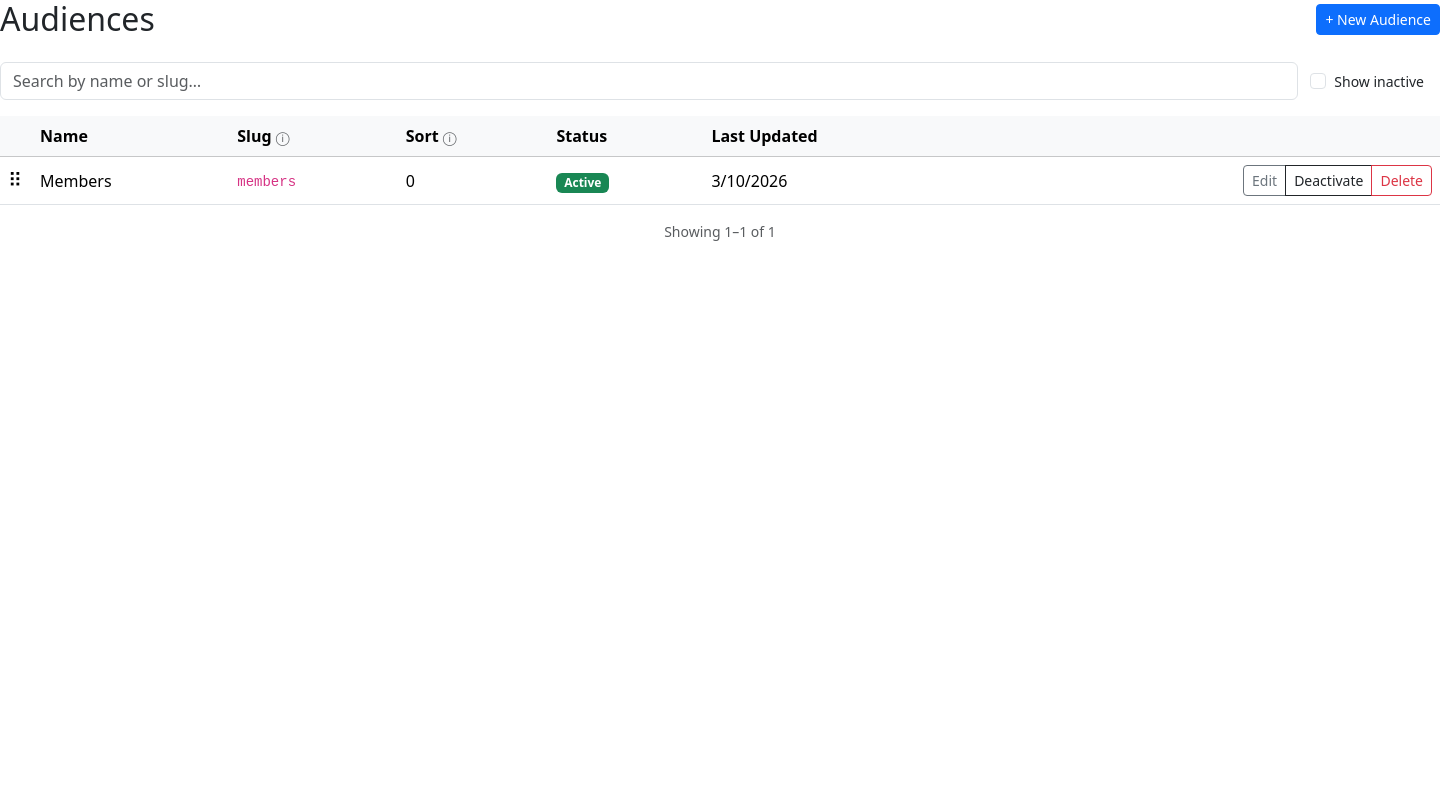
AudiencesListPage › Actions › opens confirm dialog when Delete is clicked
What coordinates should you click on to do the following:
click the button "Delete"
I would click on:
 (1402, 181)
Its box is top-left (1371, 165), bottom-right (1432, 196).
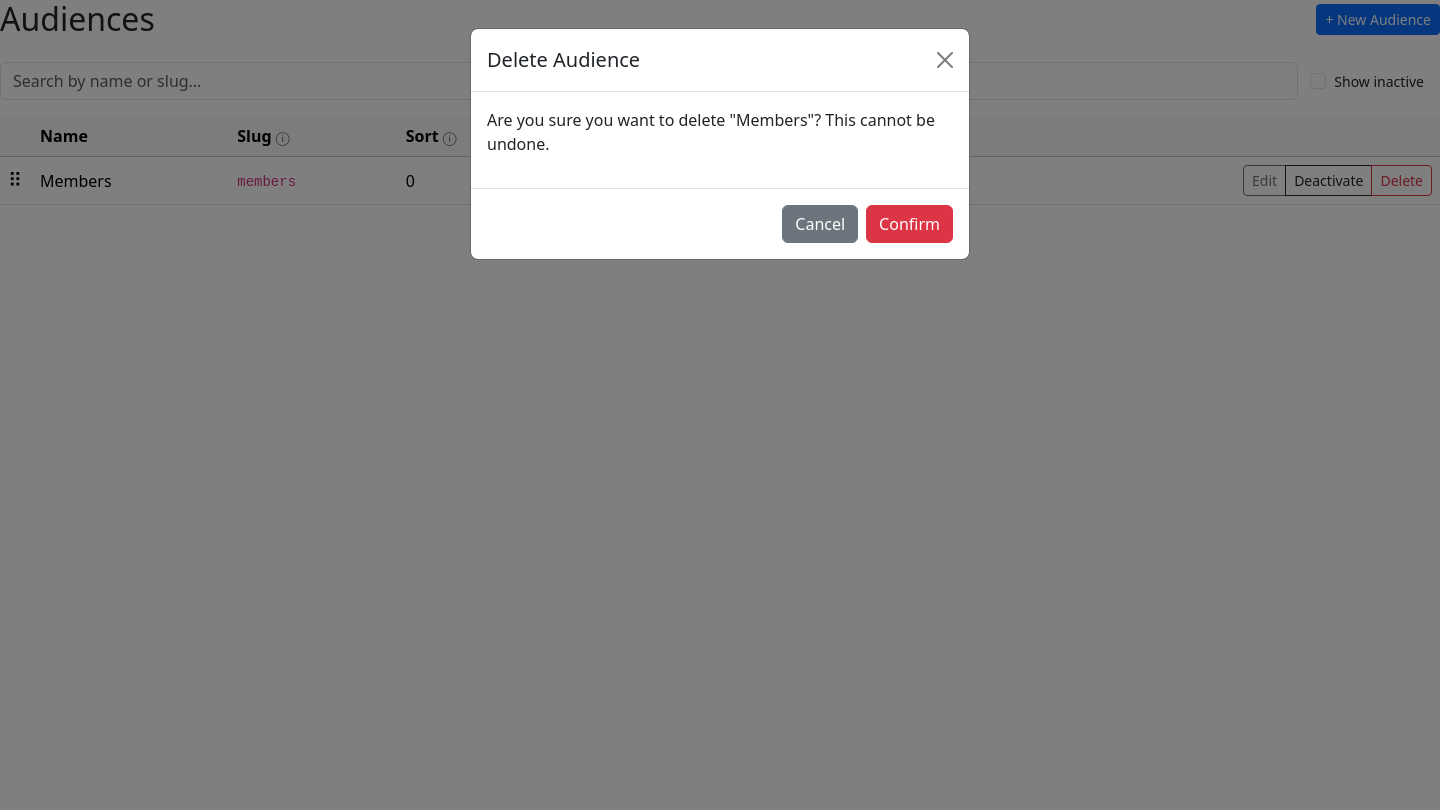
Check: the dialog is shown
Check: the text "Are you sure" is shown, box top-left (487, 109), bottom-right (935, 155)
